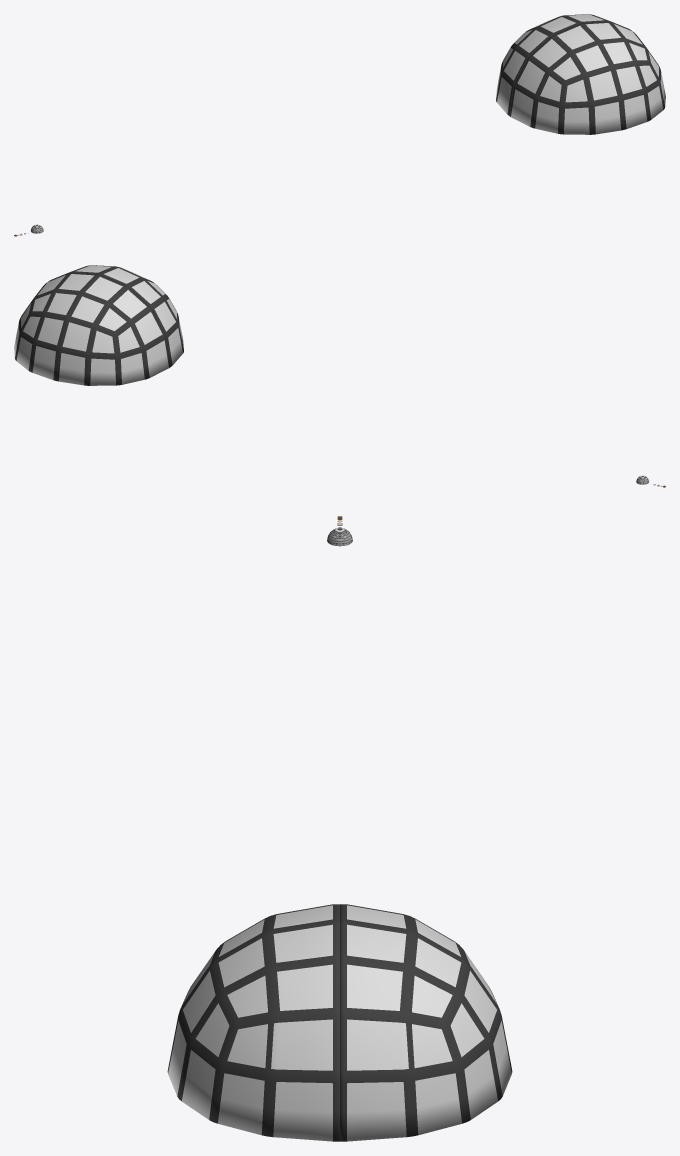
File: class_all_together.glb
3 views of the same model, one above another, from view 1: azimuth 30°, elevation 25°; view 2: azimuth 150°, elevation 25°; view 3: azimuth 270°, elevation 25° (orthographic). The views are drawn at different scales.
Visible parts, largest first — view 1: Cube.001; view 2: Cube.001; view 3: Cube.001.
Part boxes in pixels (x1=…): Cube.001: x1=496, y1=14, x2=665, y2=134; Cube.001: x1=14, y1=265, x2=183, y2=385; Cube.001: x1=167, y1=904, x2=512, y2=1141.
Size of the model in its own units: 645 by 72.82 by 151.
12 materials, 7 textured.
